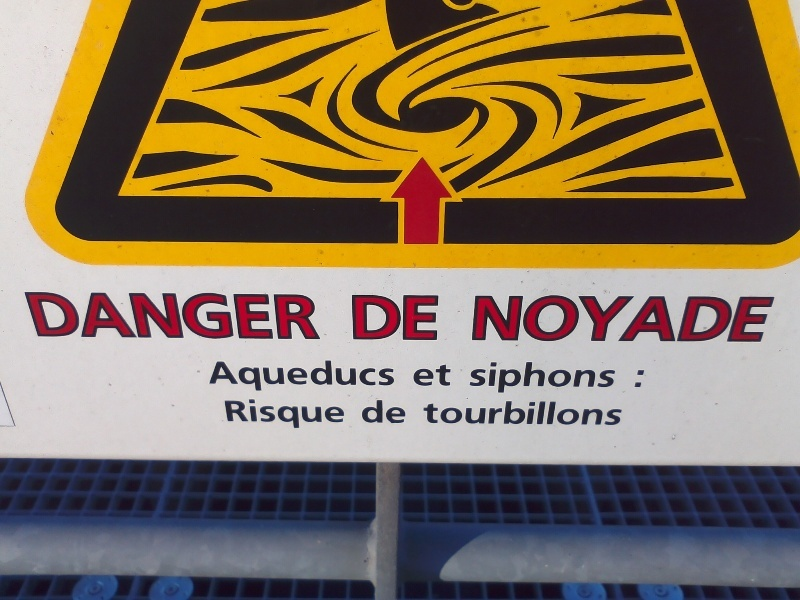text: (33, 292, 48, 341), (49, 292, 64, 341), (65, 292, 80, 341), (81, 292, 96, 341), (97, 292, 112, 341), (113, 292, 128, 341), (129, 292, 144, 341), (145, 292, 160, 341), (161, 292, 176, 341), (177, 292, 192, 341), (193, 292, 208, 341), (209, 292, 224, 341), (225, 292, 240, 341), (241, 292, 256, 341), (257, 292, 272, 341), (273, 292, 288, 341), (289, 292, 304, 341), (305, 292, 320, 341), (481, 294, 496, 343), (497, 294, 512, 343), (513, 294, 528, 343), (529, 294, 544, 343), (545, 294, 560, 343), (561, 294, 576, 343), (577, 294, 592, 343), (593, 294, 608, 343), (609, 294, 624, 343), (625, 294, 640, 343), (641, 294, 656, 343), (657, 294, 672, 343), (673, 294, 688, 343), (689, 294, 704, 343), (705, 294, 720, 343), (721, 294, 736, 343), (737, 294, 752, 343), (753, 294, 768, 343), (353, 294, 368, 341), (369, 294, 384, 341), (385, 294, 400, 341), (401, 294, 416, 341), (417, 294, 432, 341), (481, 360, 496, 394), (497, 360, 512, 394), (513, 360, 528, 394), (529, 360, 544, 394), (545, 360, 560, 394), (561, 360, 576, 394), (577, 360, 592, 394), (593, 360, 608, 394), (225, 360, 240, 392), (241, 360, 256, 392), (257, 360, 272, 392), (273, 360, 288, 392), (289, 360, 304, 392), (305, 360, 320, 392), (321, 360, 336, 392), (337, 360, 352, 392), (353, 360, 368, 392), (369, 360, 384, 392), (225, 399, 240, 429), (241, 399, 256, 429), (257, 399, 272, 429), (273, 399, 288, 429), (289, 399, 304, 429), (305, 399, 320, 429), (321, 399, 336, 429), (433, 399, 448, 427), (449, 399, 464, 427), (465, 399, 480, 427), (481, 399, 496, 427), (497, 399, 512, 427), (513, 399, 528, 427), (529, 399, 544, 427), (545, 399, 560, 427), (561, 399, 576, 427), (577, 399, 592, 427), (593, 399, 608, 427), (609, 399, 624, 427), (769, 294, 777, 343), (417, 362, 432, 388), (433, 362, 448, 388), (385, 360, 397, 392), (369, 399, 384, 424), (385, 399, 400, 424), (25, 292, 32, 341), (470, 360, 480, 394), (337, 399, 348, 429), (433, 294, 440, 341), (609, 360, 617, 394), (475, 294, 480, 343), (217, 360, 224, 392), (424, 399, 432, 427), (362, 399, 368, 424), (321, 292, 324, 341), (411, 362, 416, 388), (401, 399, 406, 424), (641, 369, 647, 389), (449, 362, 453, 388), (637, 369, 640, 389)
